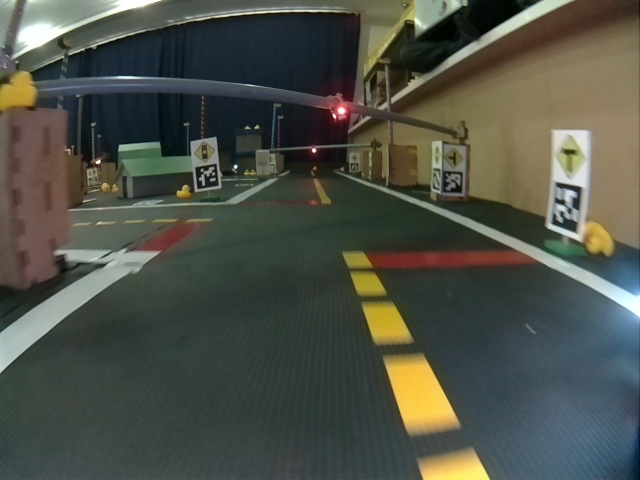Duckie: (2, 71, 36, 109), (583, 221, 614, 257), (177, 185, 189, 197), (101, 183, 110, 190)
Intersection sign: (552, 131, 584, 181), (445, 147, 463, 168), (350, 153, 359, 162)
QR code: (549, 182, 586, 235), (194, 164, 220, 192), (444, 172, 463, 194), (432, 168, 440, 193), (351, 164, 359, 172)
Signal sign: (192, 141, 217, 163), (432, 142, 441, 166)
Traffic light: (329, 95, 348, 120)
